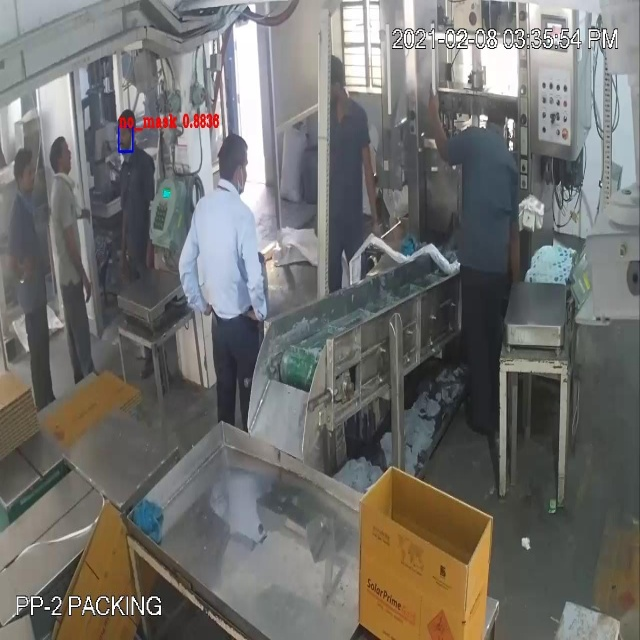Sin_guantes: (161, 215, 214, 341), (237, 204, 284, 345), (502, 180, 531, 306), (66, 204, 97, 319), (360, 134, 386, 236), (4, 221, 44, 284), (425, 85, 455, 161)
